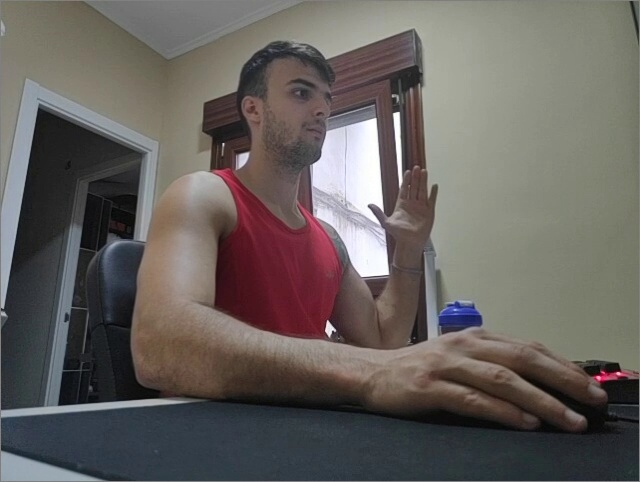Palm: (364, 164, 439, 248)
